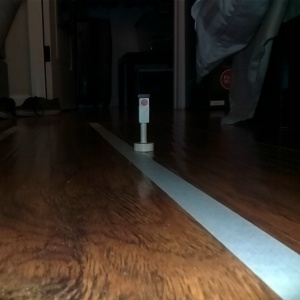traffic light red: (131, 91, 156, 154)
